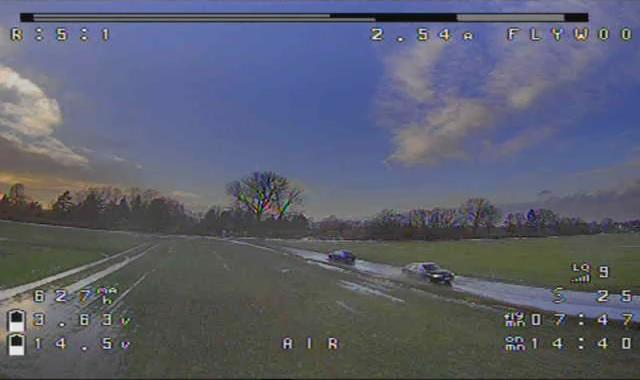car: (398, 259, 466, 292), (322, 247, 364, 270)
